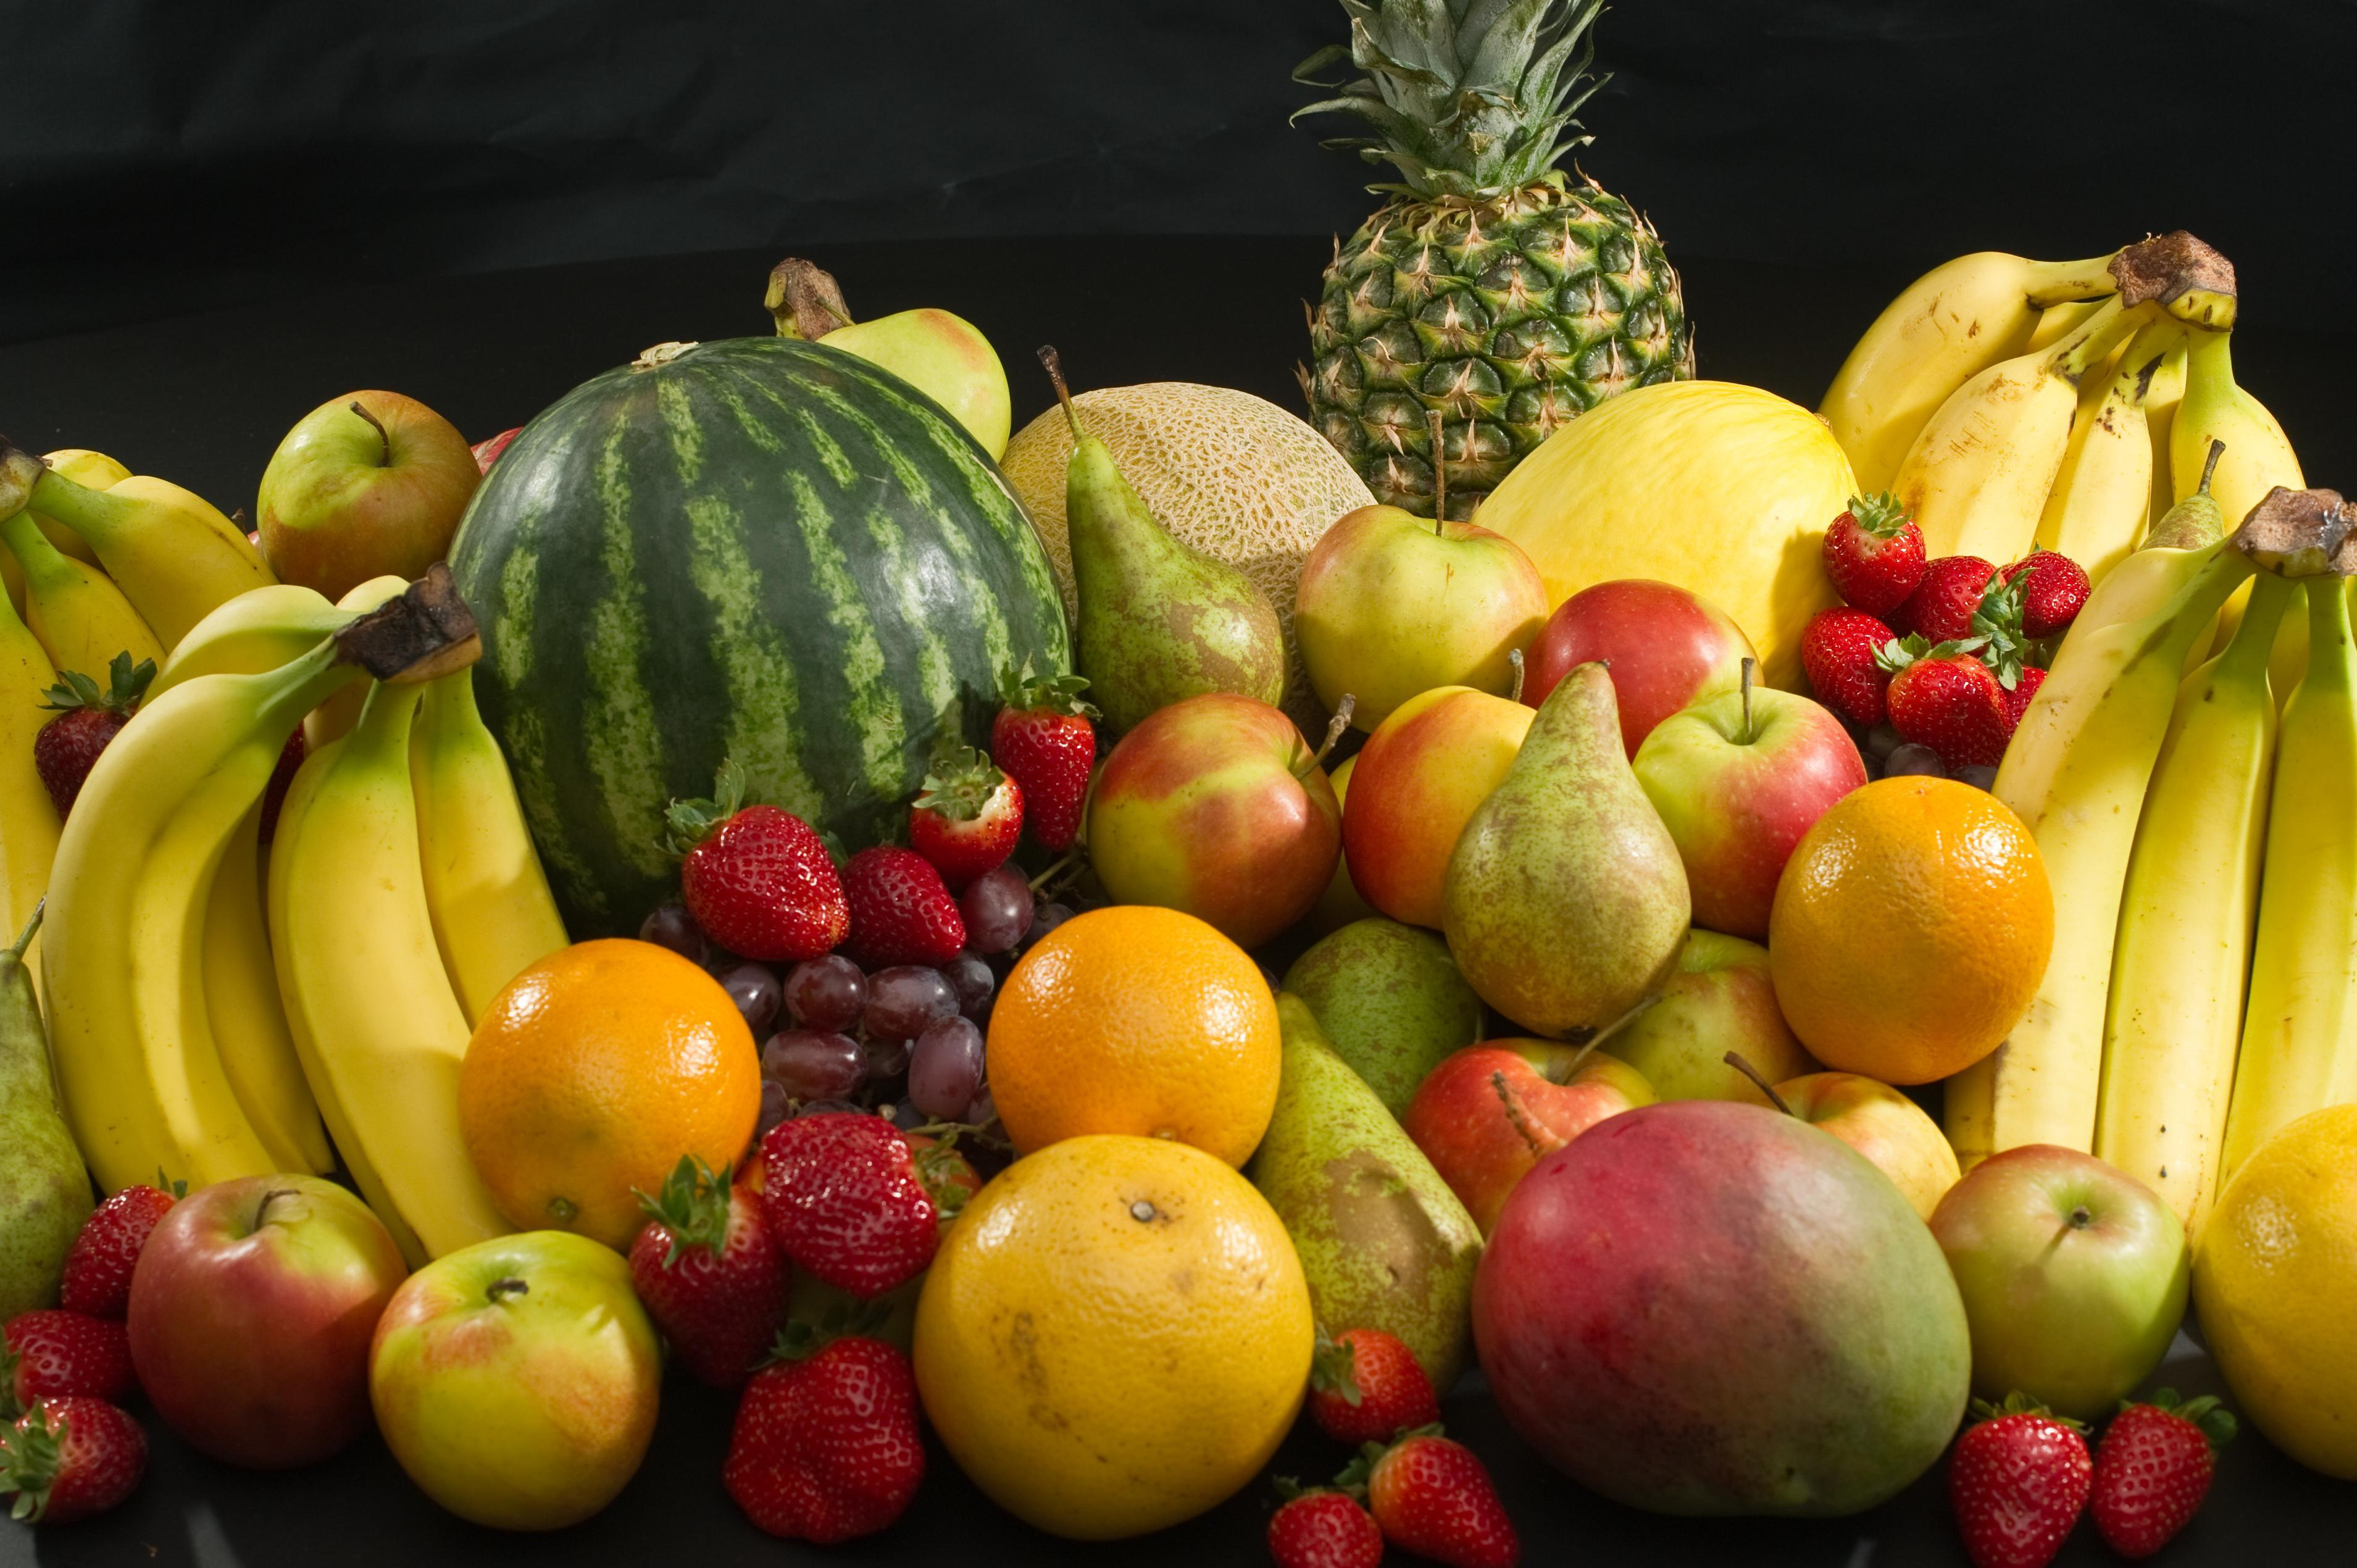apple: (366, 1235, 660, 1536), (115, 1174, 406, 1479), (1934, 1141, 2187, 1414), (247, 390, 492, 600)
